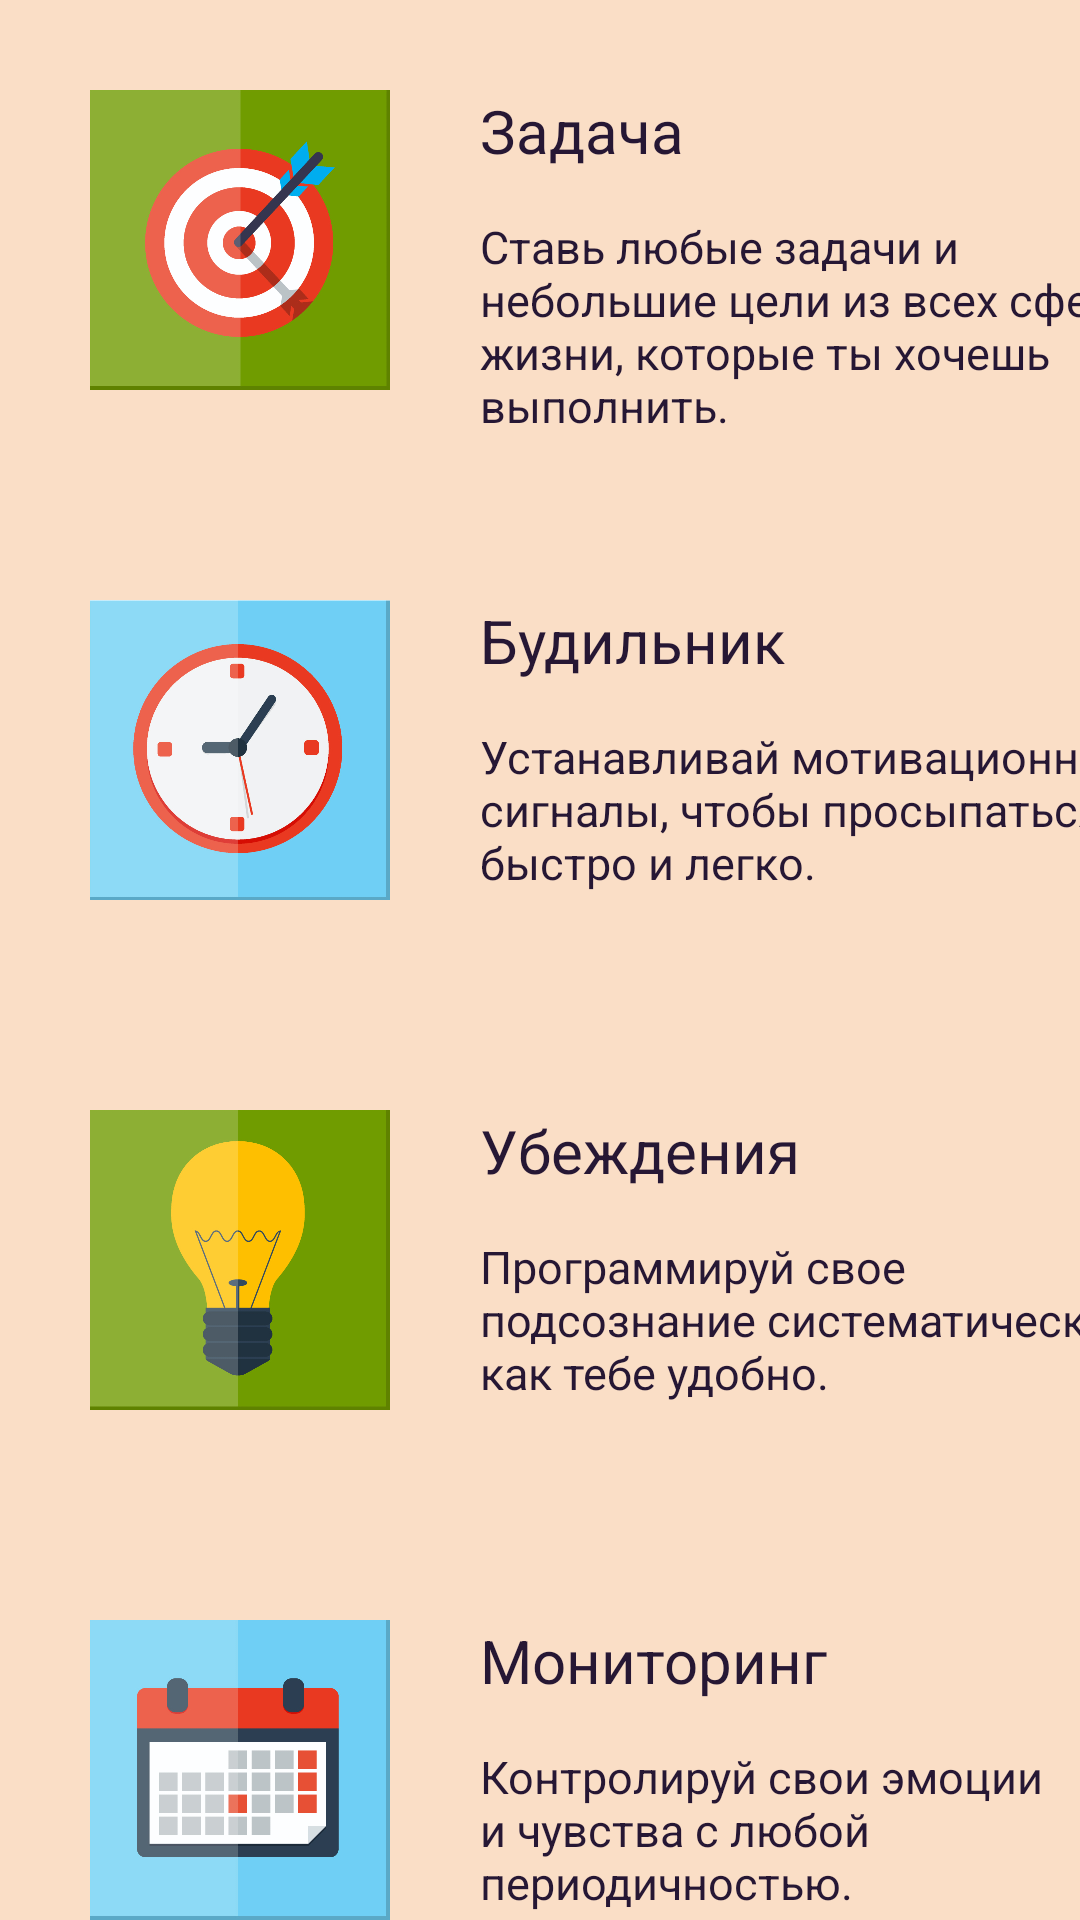

Point at icon controls on the screen. Image size 1080w x 1920h, points as [x,y].
alarm: [240,750]
taks: [240,240]
